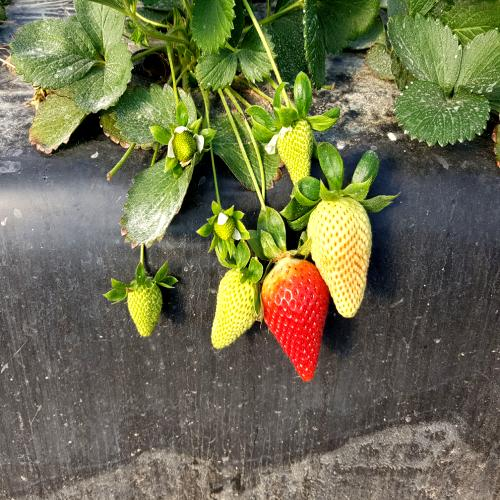ripe: (258, 250, 335, 390)
